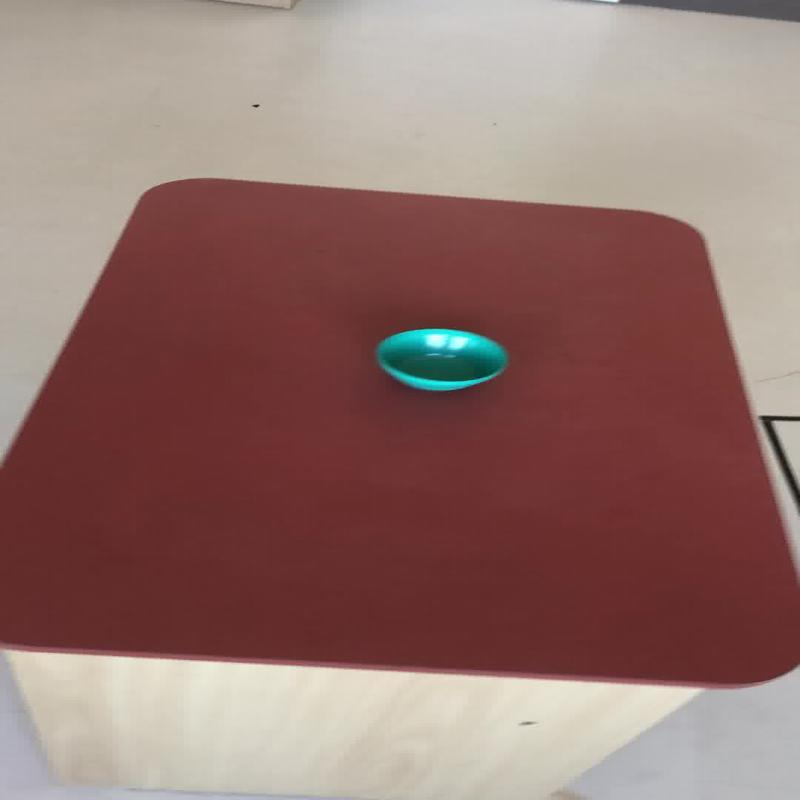bowl: (374, 327, 508, 391)
